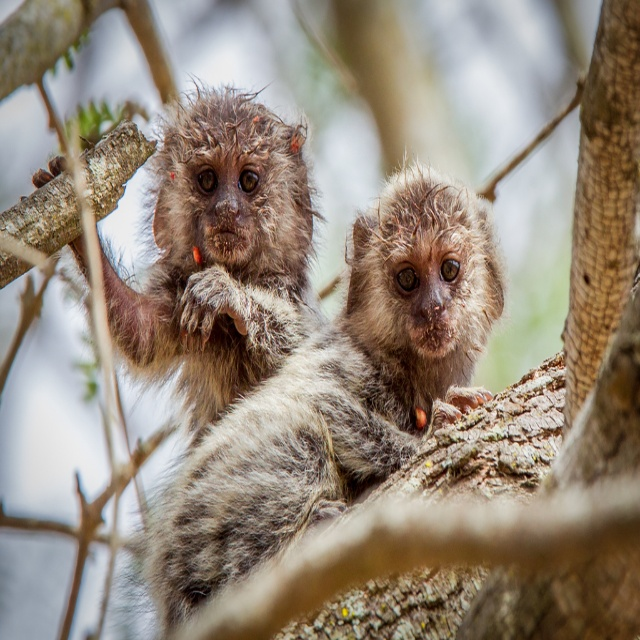Monkey: (110, 84, 498, 640)
